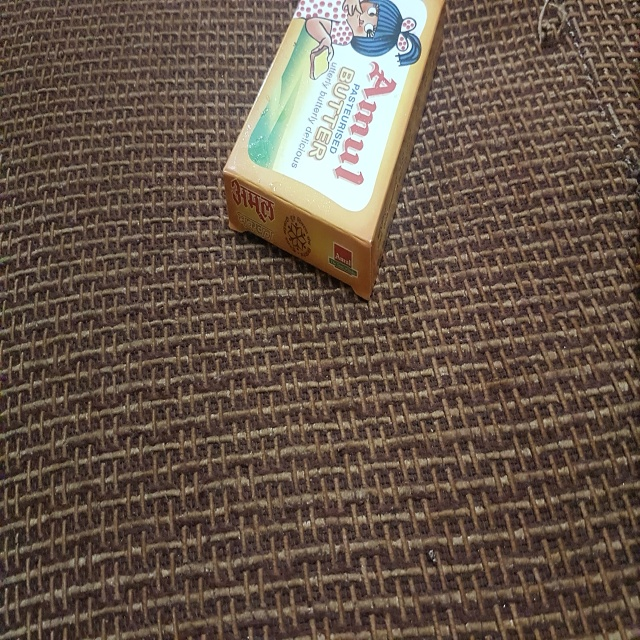butter: (217, 2, 457, 305)
